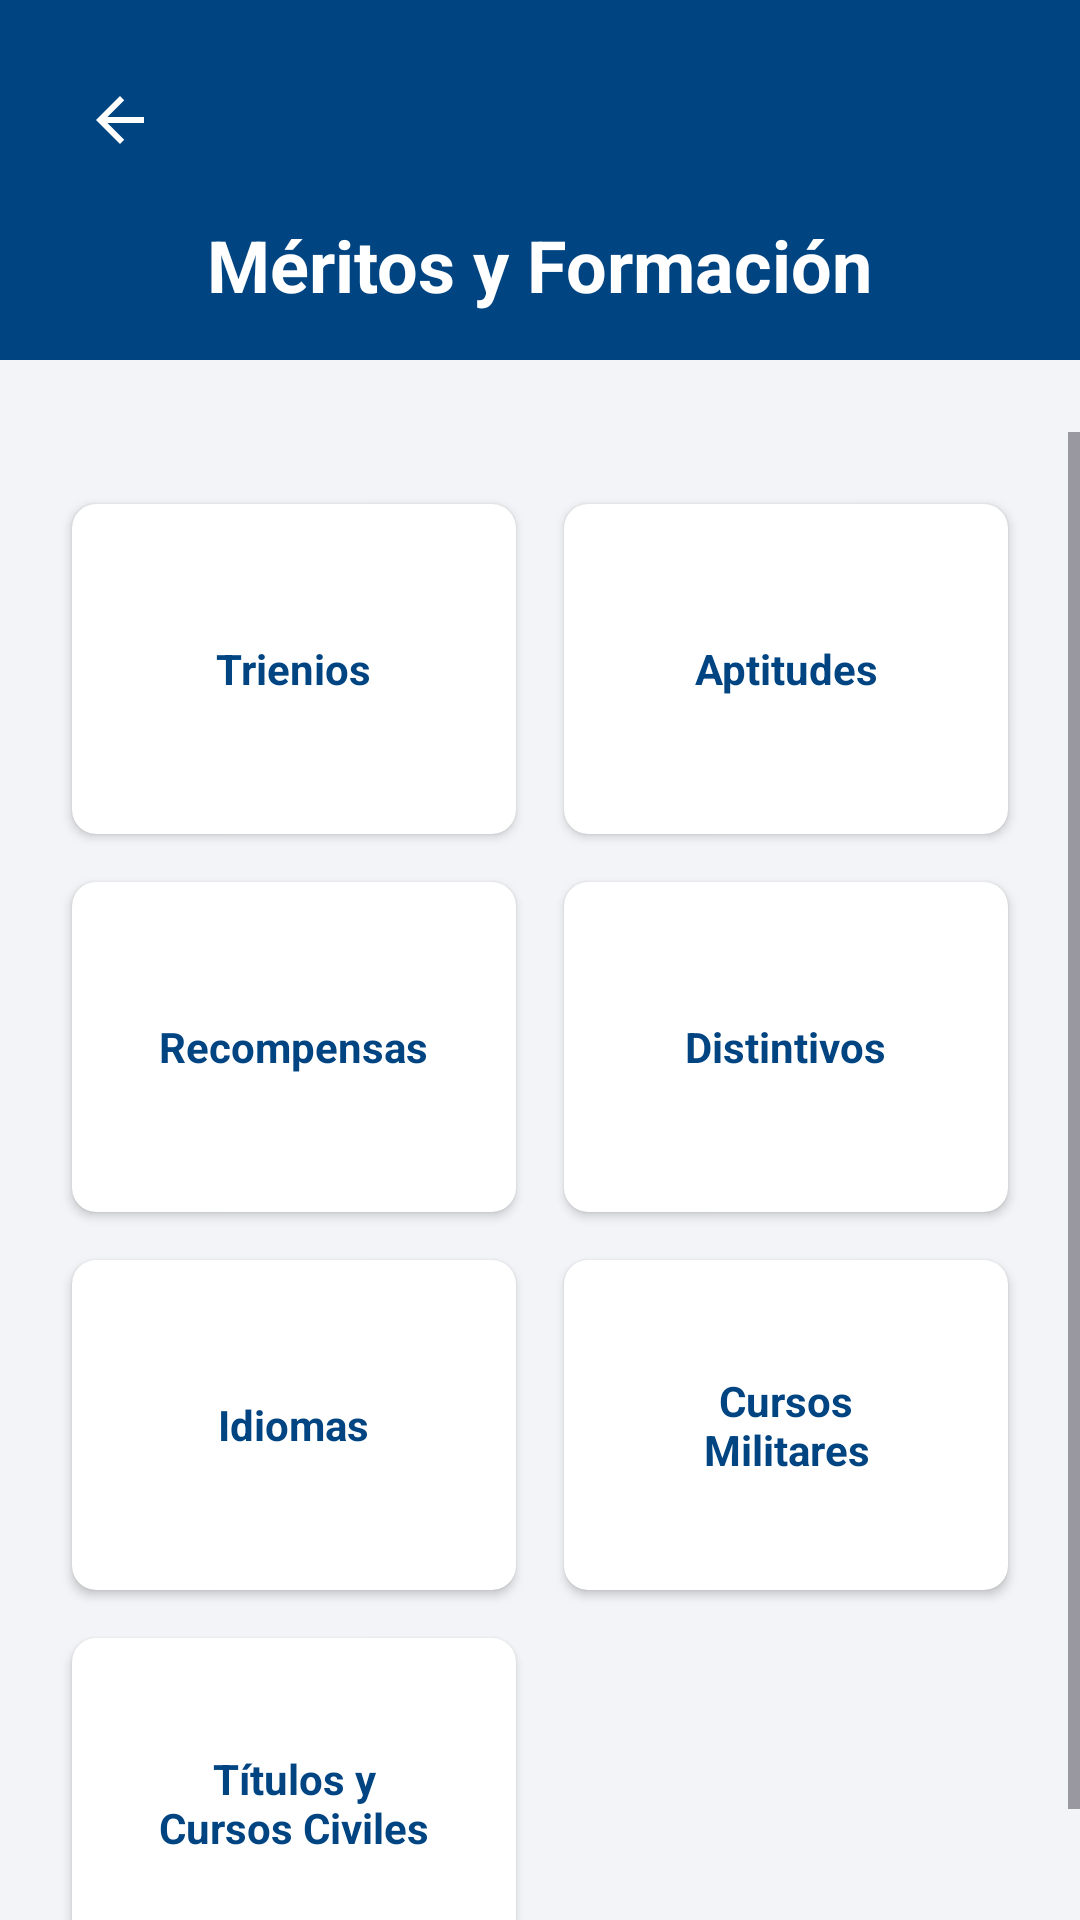

Named icons in this screenshot (1080x1920) and their centers, (x,y):
Volver: (120,120)
